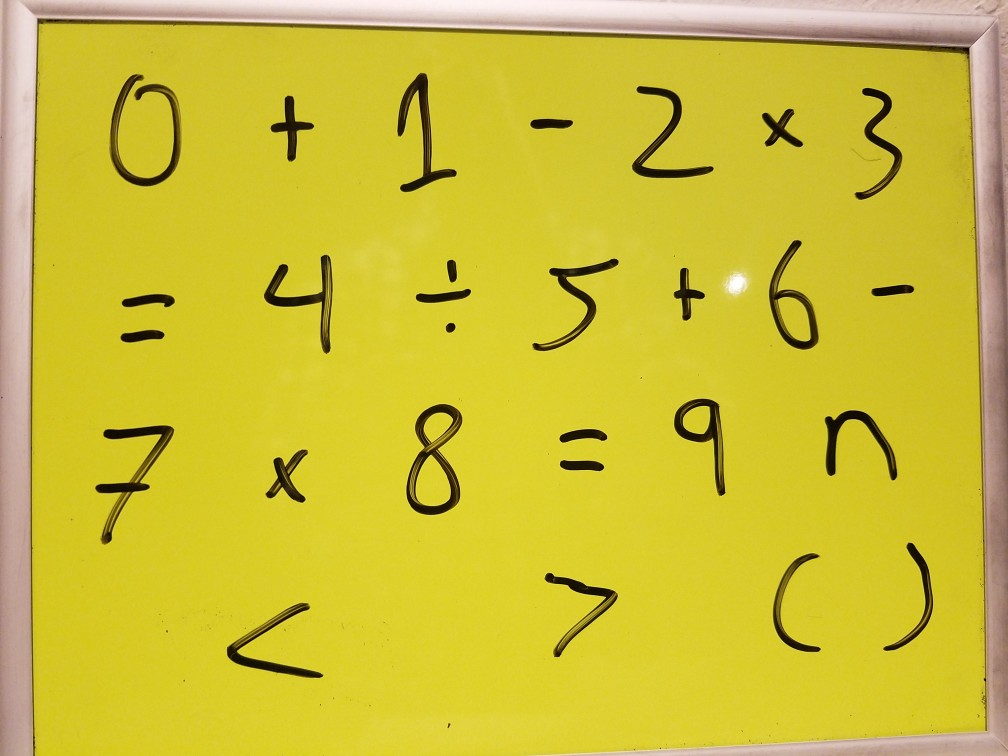(: (760, 539, 835, 664)
): (868, 529, 942, 658)
+: (258, 92, 318, 168), (663, 258, 709, 324)
-: (520, 99, 579, 142), (860, 270, 923, 304)
0: (98, 65, 192, 200)
1: (385, 63, 463, 203)
2: (620, 66, 724, 198)
3: (846, 73, 906, 205)
4: (250, 242, 347, 362)
5: (522, 247, 629, 360)
6: (762, 232, 826, 353)
7: (76, 410, 182, 552)
8: (383, 393, 482, 527)
9: (665, 391, 740, 505)
<: (211, 588, 334, 698)
=: (101, 276, 193, 351), (547, 404, 620, 489)
>: (522, 564, 632, 660)
div: (407, 247, 477, 339)
n: (810, 398, 907, 491)
x: (259, 432, 315, 515), (748, 95, 809, 154)
